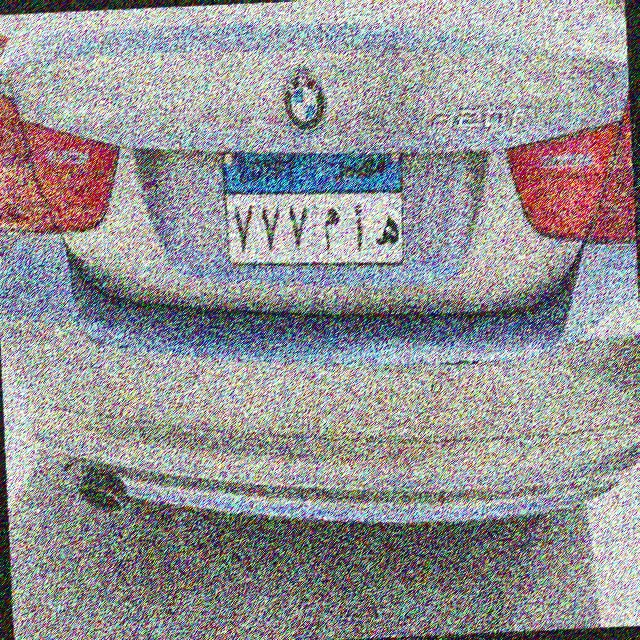License Plate: (221, 143, 412, 275)
